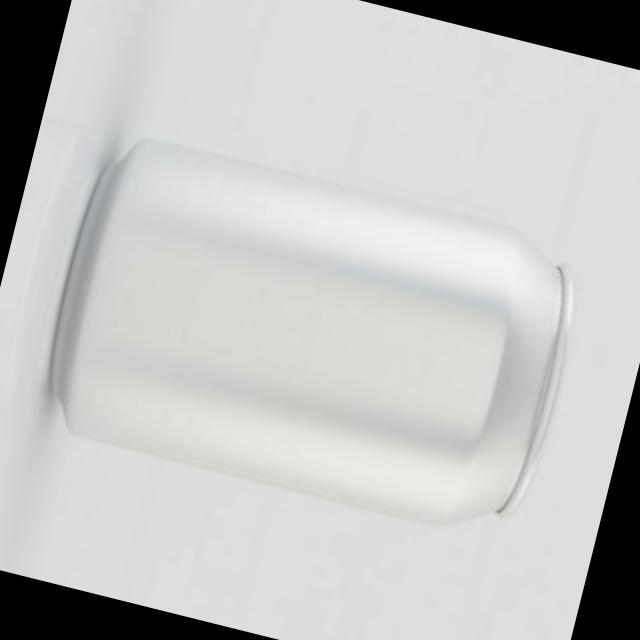metal: (55, 138, 572, 521)
